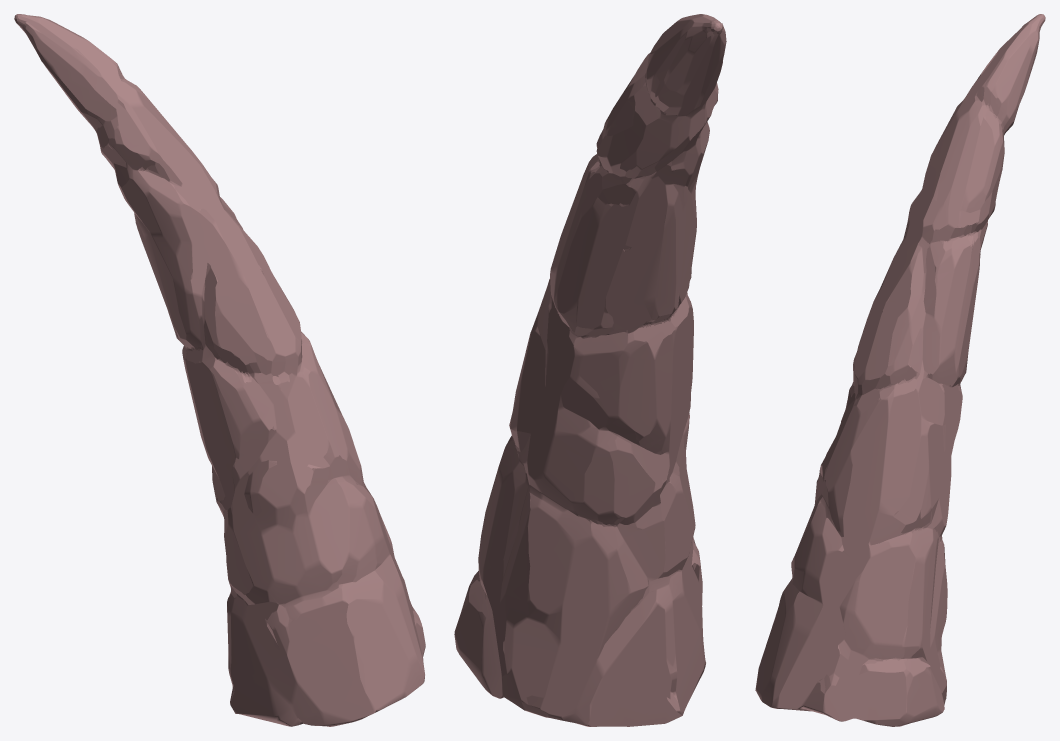
The model's file is sea.fbx_ConeLODs.fbx.
The picture shows the model from 3 angles, left to right: view 1: azimuth 30°, elevation 25°; view 2: azimuth 150°, elevation 25°; view 3: azimuth 270°, elevation 25°; orthographic projection. The views are drawn at different scales.
Parts seen in each view (by area): view 1: Cone_LOD0; view 2: Cone_LOD0; view 3: Cone_LOD0.
Part boxes in pixels (bbox=[...]): Cone_LOD0: bbox=[14, 14, 425, 726]; Cone_LOD0: bbox=[454, 14, 726, 726]; Cone_LOD0: bbox=[755, 14, 1045, 726].
Size of what is drawn, in the model's own units: 3513 by 7463 by 3210.
